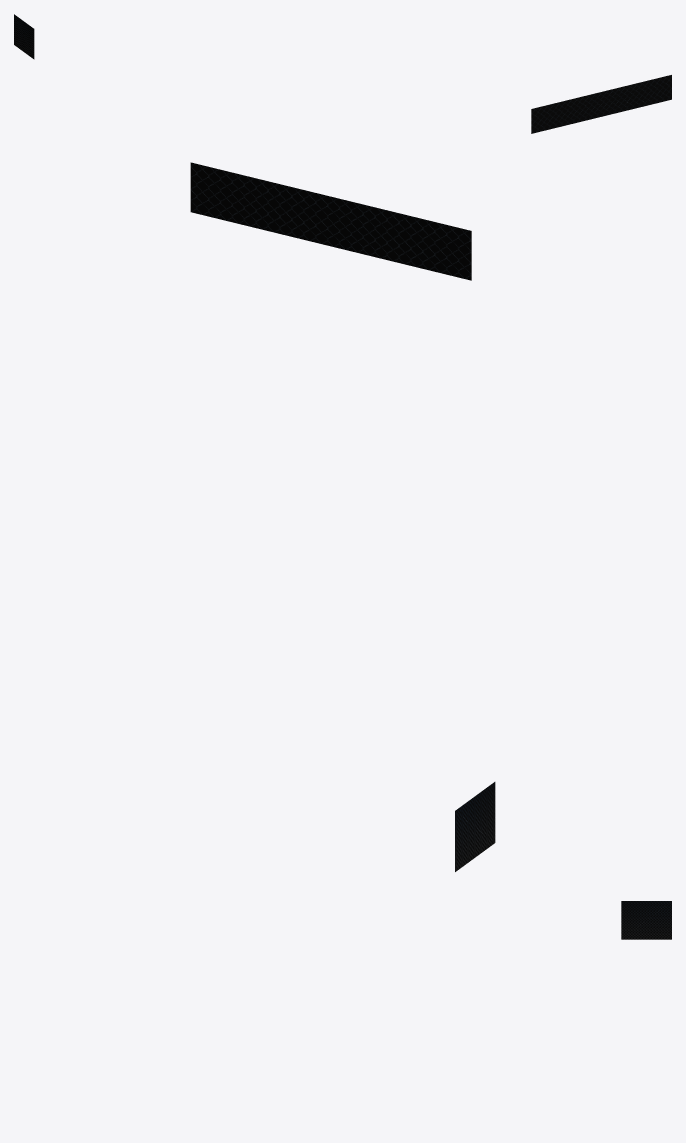
Rendered from ChicagoStealth_Alpha_39.glb.
3 renders of one model, top to bottom at view 1: azimuth 30°, elevation 25°; view 2: azimuth 150°, elevation 25°; view 3: azimuth 270°, elevation 25°, orthographic. The views are drawn at different scales.
Visible parts, largest first — view 1: ChicagoStealth_Alpha_39; view 2: ChicagoStealth_Alpha_39; view 3: ChicagoStealth_Alpha_39.
Part boxes in pixels (x1,y1,x2,y2): ChicagoStealth_Alpha_39: [14, 14, 671, 133]; ChicagoStealth_Alpha_39: [190, 162, 495, 871]; ChicagoStealth_Alpha_39: [621, 901, 671, 939].
Bounding box in the file's own units: 176 × 28.25 × 203.
Materials: 1 (1 with a texture image).
